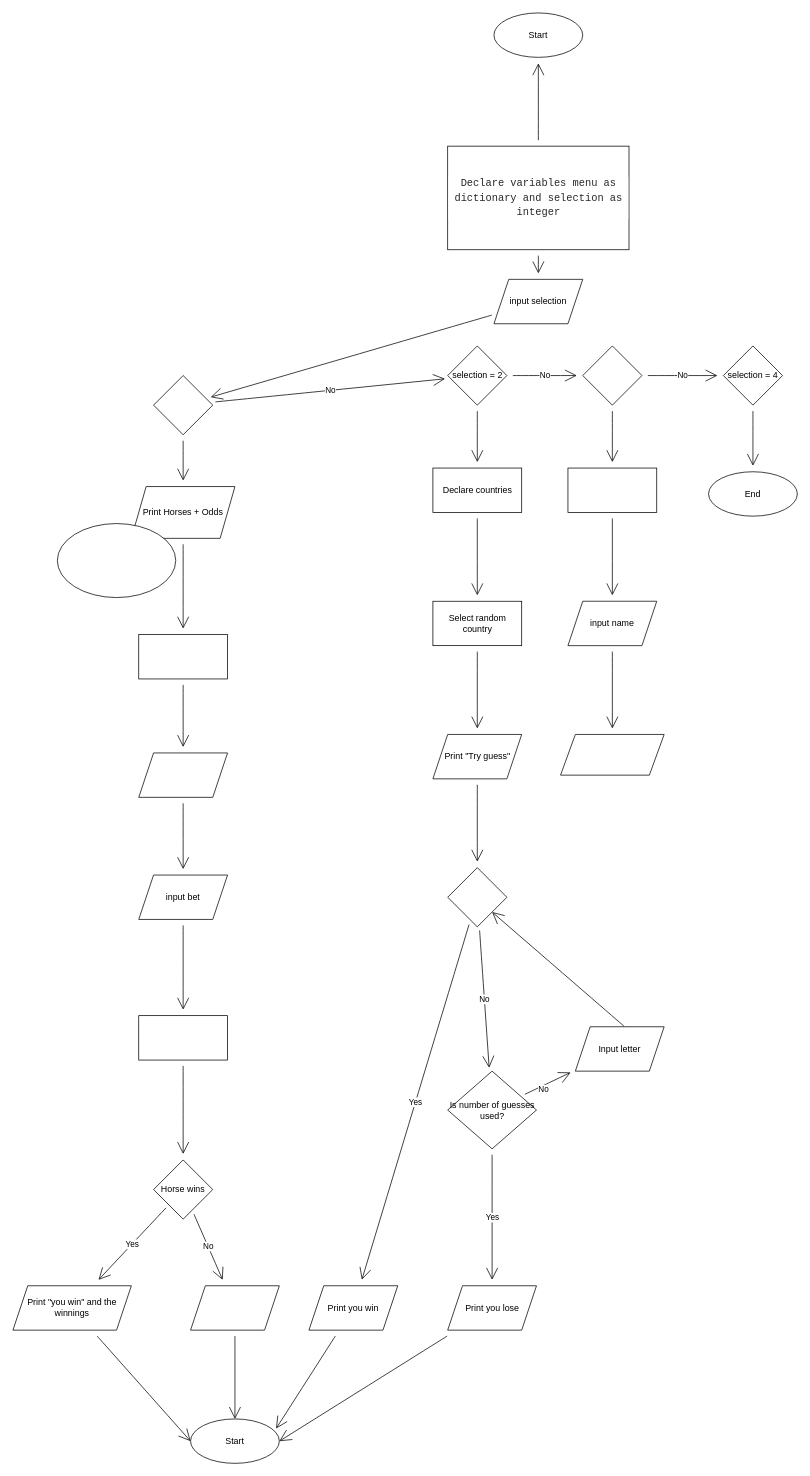
Some shapes in this 810 by 1476 pixel diagram are drawn without their labels. Each missing label, with the centre of its shape:
Declare horses, oddscalculator, horse names: the point at 183,656
Declare words: the point at 612,489
input horse number: the point at 183,774
Is country guessed: the point at 477,897
Print "you lose": the point at 234,1307
Print their description: the point at 612,754
Select random horse based on weights: the point at 183,1037
selection = 1: the point at 183,405
selection = 3: the point at 612,375
